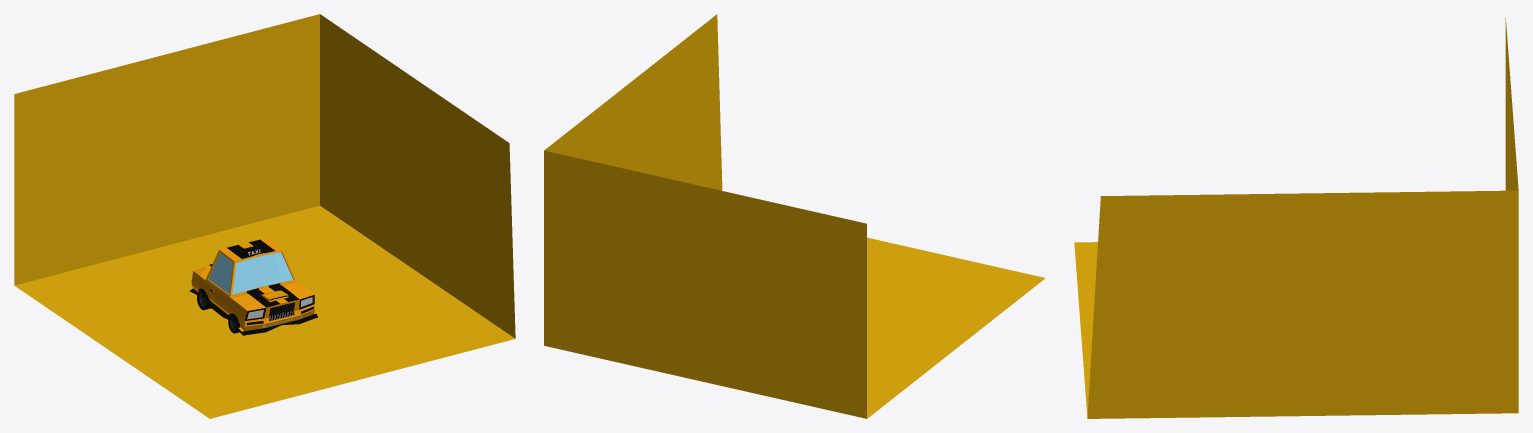
File: taxi.fbx
3 renders of one model, left to right at view 1: azimuth 30°, elevation 25°; view 2: azimuth 150°, elevation 25°; view 3: azimuth 270°, elevation 25°, orthographic. The views are drawn at different scales.
Parts seen in each view (by area): view 1: Plane, body; view 2: Plane; view 3: Plane.
Boxes of the visible parts, box(x1,y1,x2,y2) form: Plane: box(14, 14, 515, 418); body: box(189, 238, 317, 335); Plane: box(544, 14, 1045, 418); Plane: box(1074, 18, 1518, 418).
Size of the model in its own units: 1134 by 647 by 1168.
